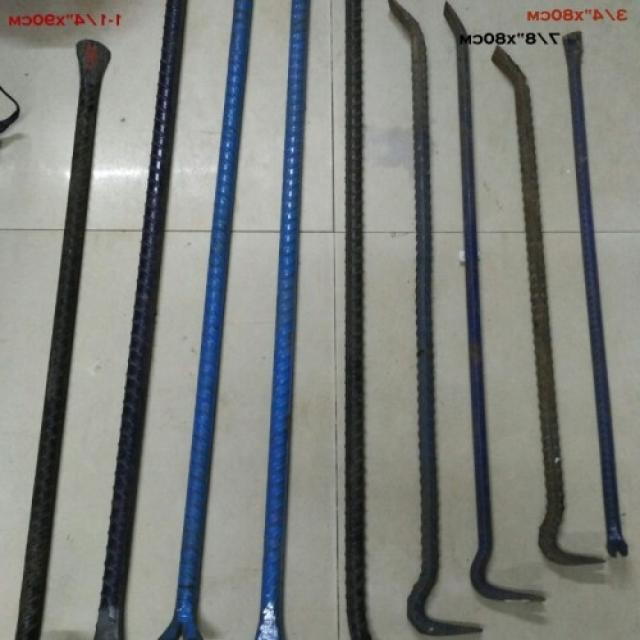Linggis: (409, 6, 543, 630)
